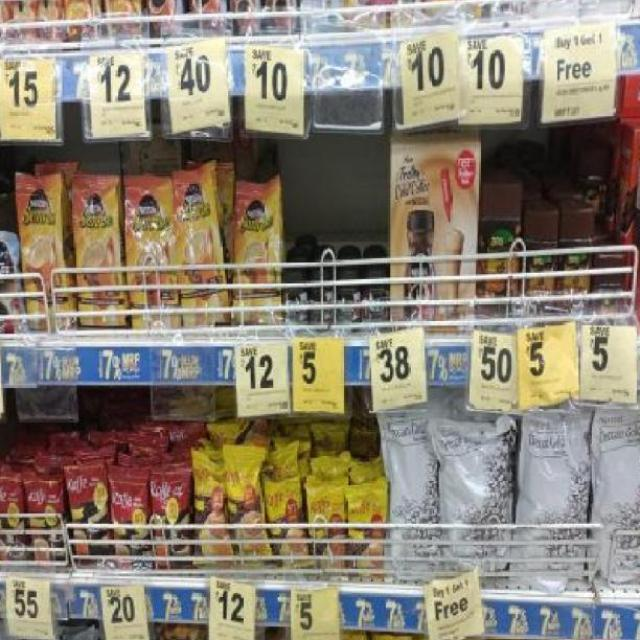Coffee: (125, 177, 176, 329), (175, 174, 224, 323), (74, 176, 121, 329), (22, 175, 65, 330), (236, 189, 279, 328), (281, 264, 308, 323), (338, 267, 363, 328), (311, 269, 336, 328), (364, 267, 388, 328)
